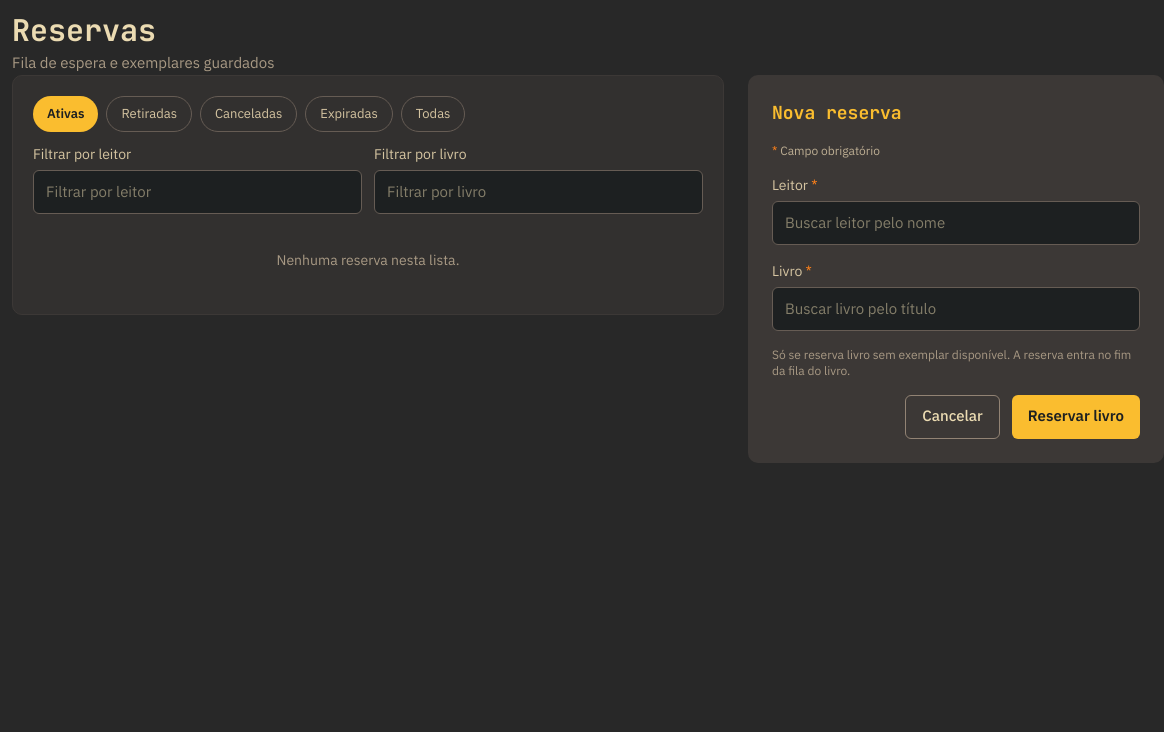
reservas: nova reserva › reserva livro sem exemplar disponível e mostra o lugar na fila
In the search field labelled "Buscar leitor pelo nome": (956, 222) [772,200,1140,244], type "Ana"
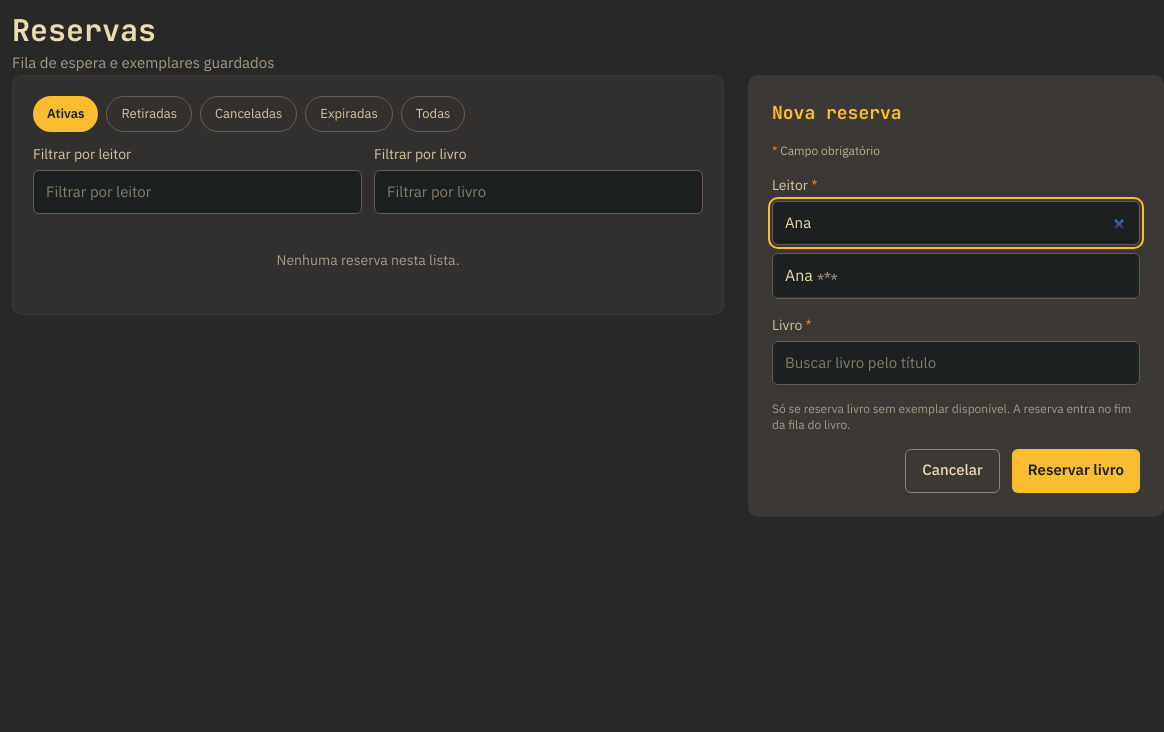
Click the button "Ana ***": (799, 275) [773,254,1139,298]
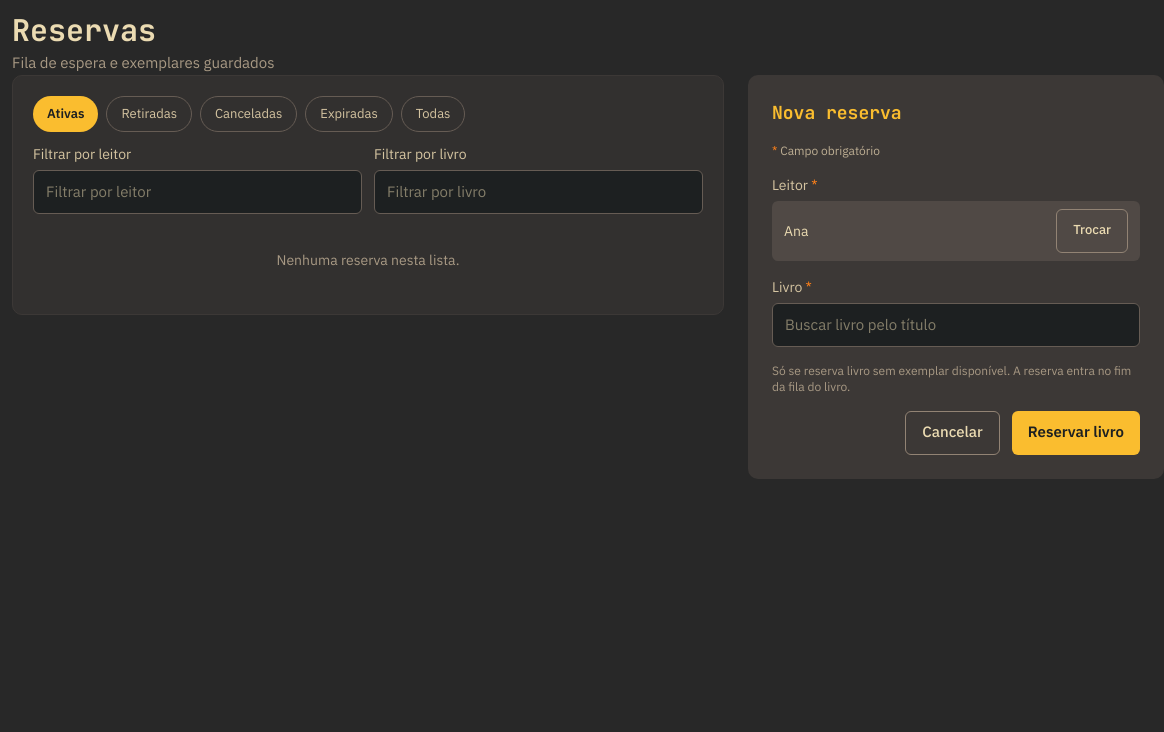
In the search field labelled "Buscar livro pelo título": (956, 324) [772,302,1140,346], type "Dom"
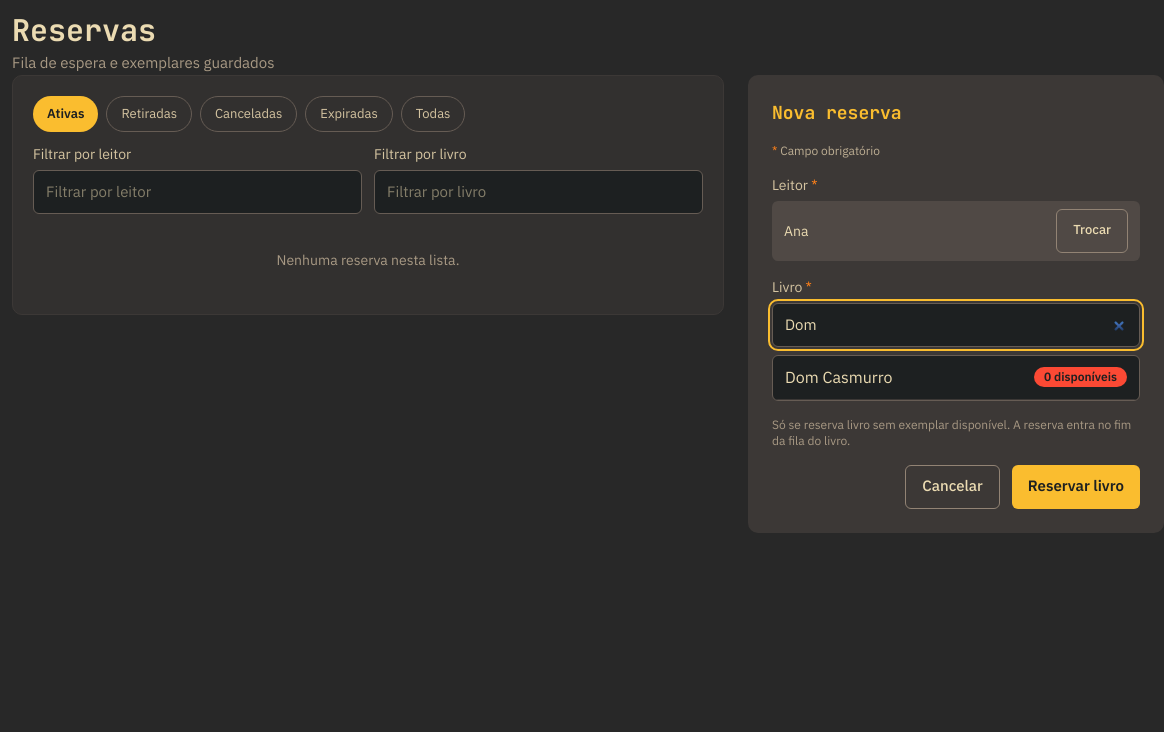
Click the button "Dom Casmurro 0 disponíveis": (839, 377) [773,356,1139,400]
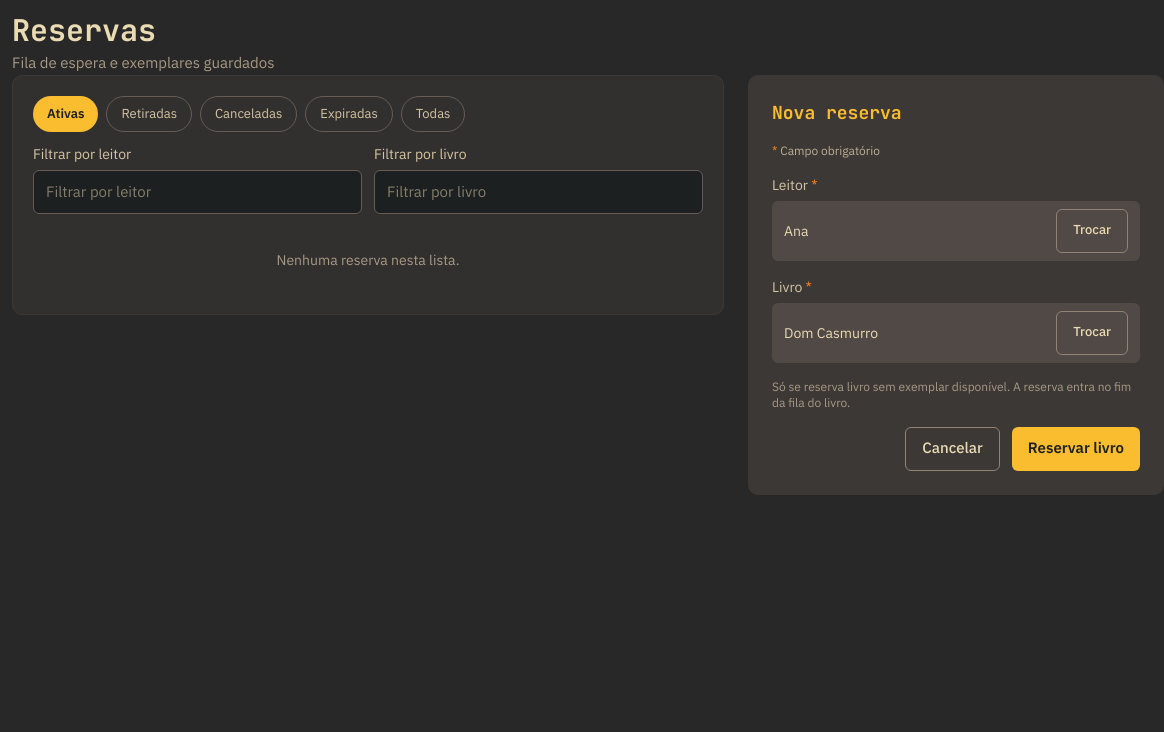
Click the button "Reservar livro": (1076, 448) [1012,426,1140,470]
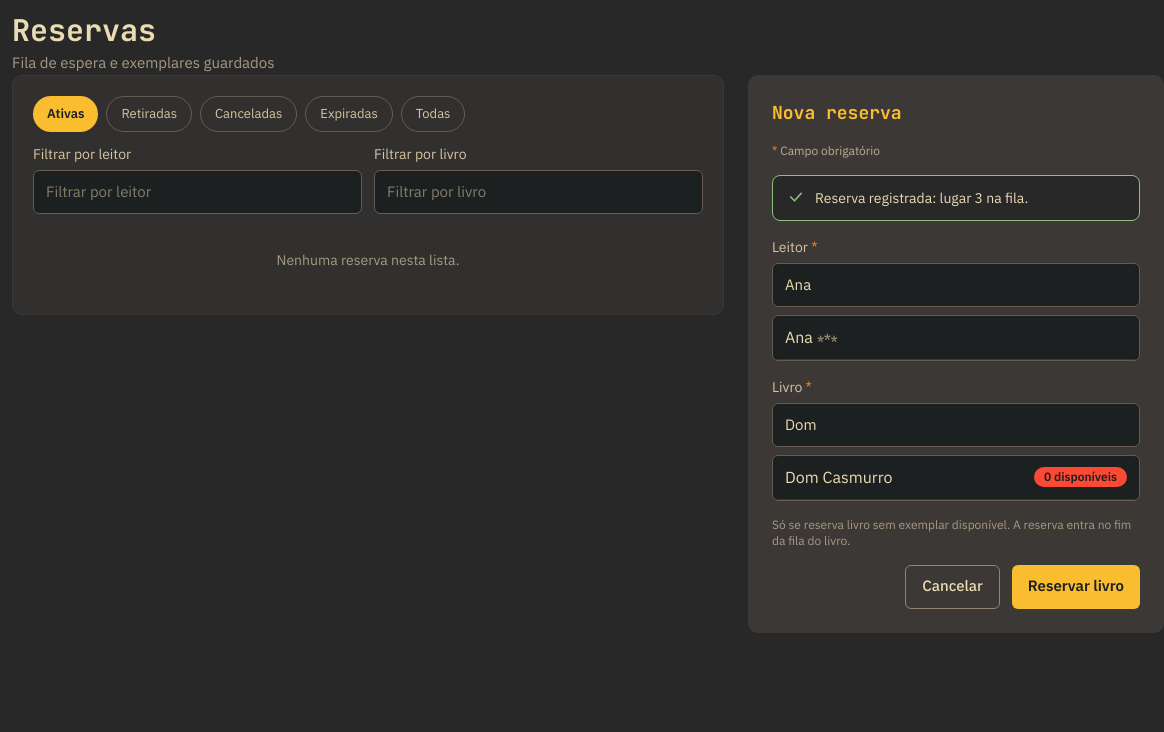
Expected: the text "Reserva registrada: lugar 3 na fila." is shown, [815,188,1028,208]
